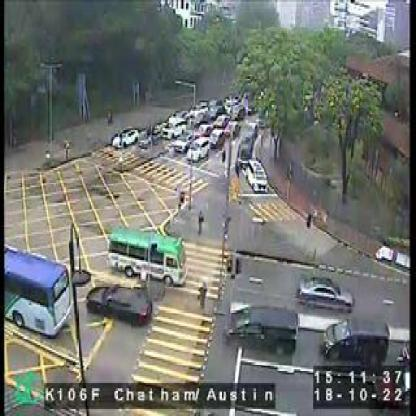Car: (224, 308, 300, 359), (319, 316, 390, 365), (86, 283, 154, 327), (297, 276, 355, 314), (245, 157, 269, 193), (112, 125, 140, 152), (162, 117, 189, 140), (187, 137, 210, 163), (236, 141, 253, 176), (170, 131, 194, 155), (139, 127, 161, 150), (210, 127, 224, 148), (226, 121, 241, 140), (213, 113, 228, 130)
Minibus: (108, 227, 188, 286)
Truck: (5, 246, 72, 336)
